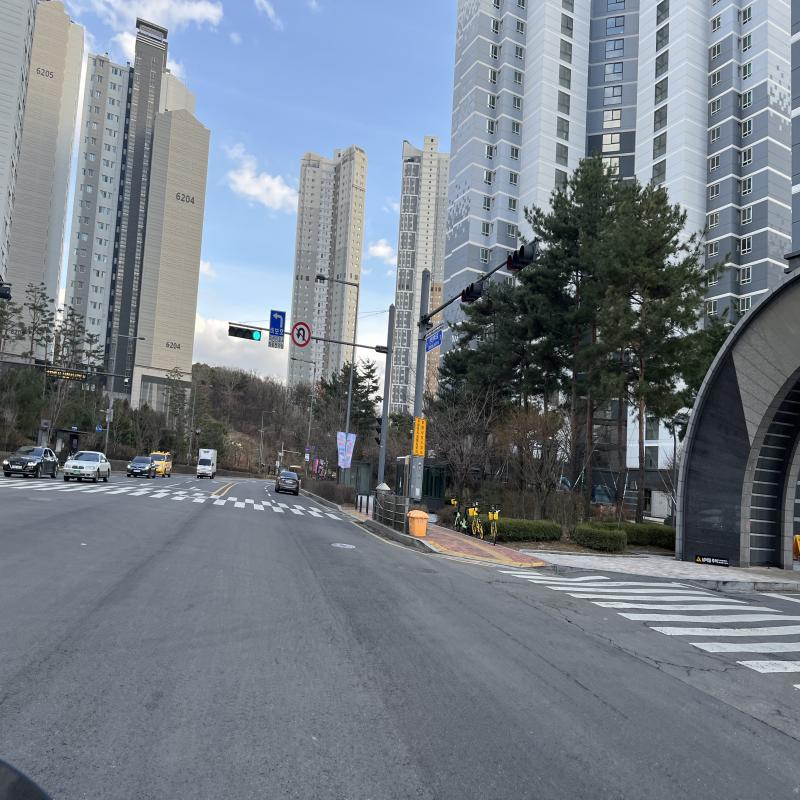green: (253, 331, 260, 340)
